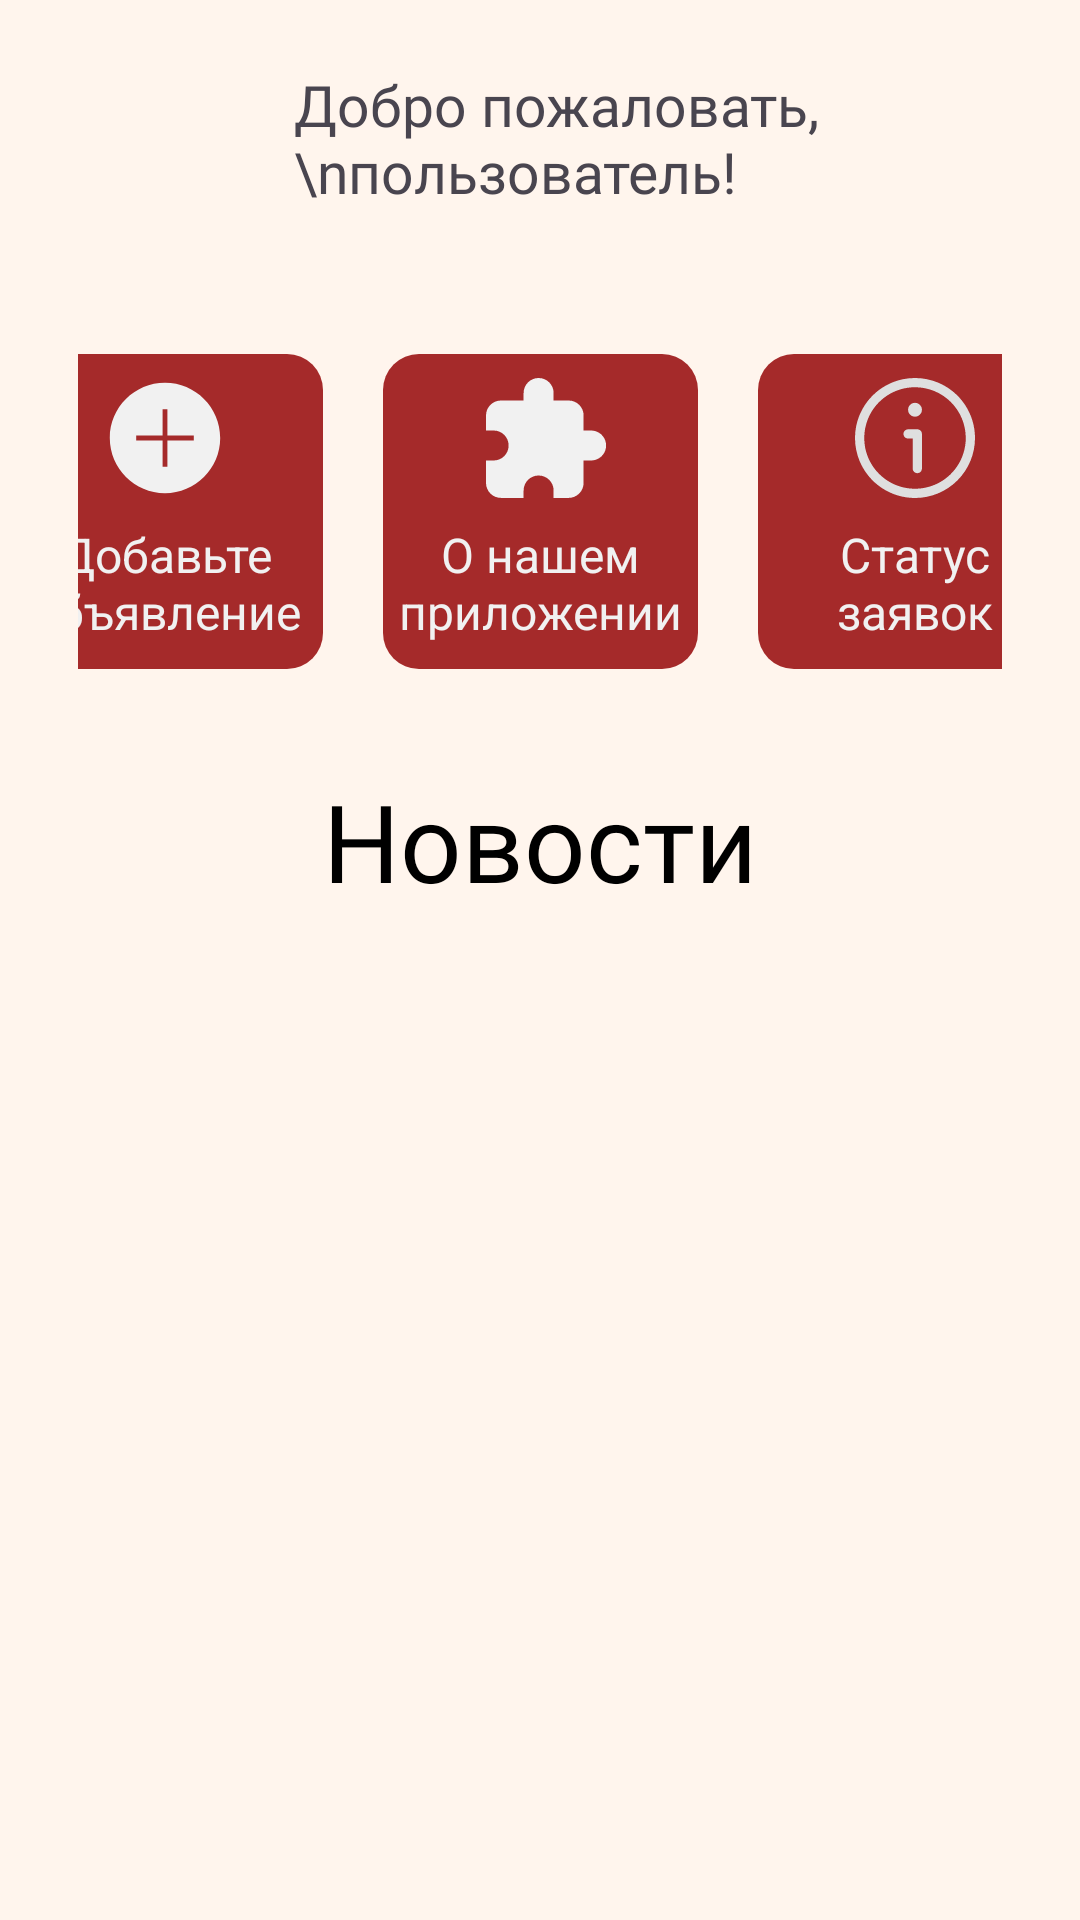

Named icons in this screenshot (1080x1920) and their centers, (x,y):
app: (546,438)
